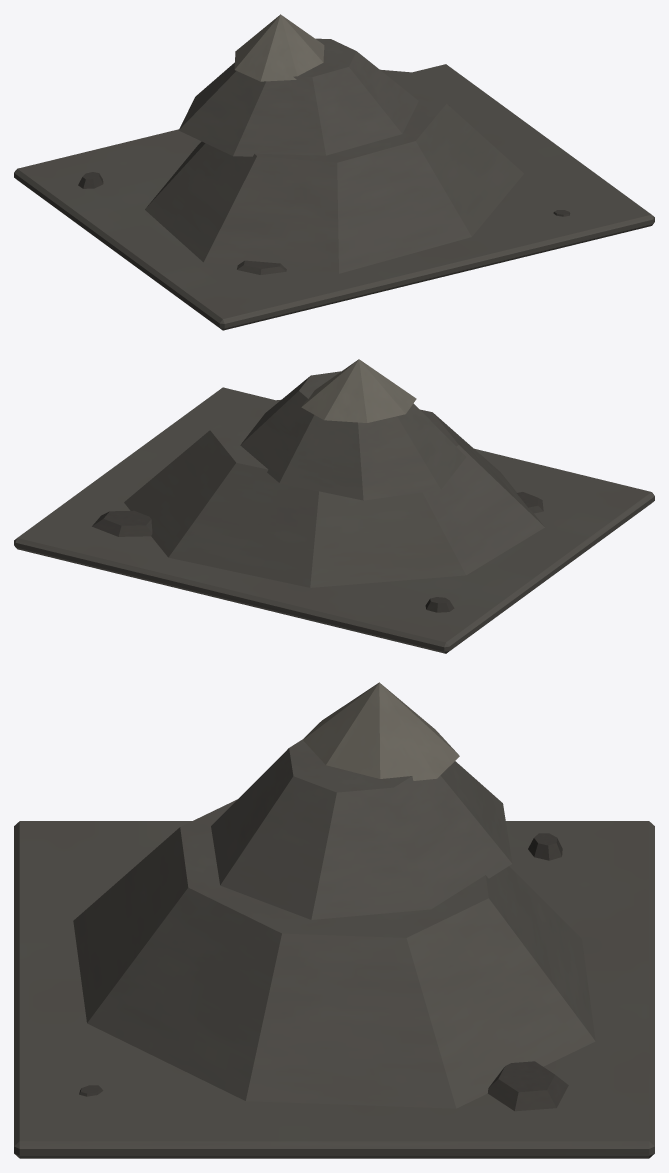
The model's file is terrain_mountain.glb.
3 views of the same model, one above another, from view 1: azimuth 30°, elevation 25°; view 2: azimuth 150°, elevation 25°; view 3: azimuth 270°, elevation 25° (orthographic). The views are drawn at different scales.
Parts seen in each view (by area): view 1: terrain_mountain_footing, terrain_mountain_mass0, terrain_mountain_mass1, terrain_mountain_mass2, terrain_mountain_outcrop_w; view 2: terrain_mountain_mass0, terrain_mountain_footing, terrain_mountain_mass1, terrain_mountain_mass2, terrain_mountain_outcrop_e; view 3: terrain_mountain_mass0, terrain_mountain_footing, terrain_mountain_mass1, terrain_mountain_mass2, terrain_mountain_outcrop_e, terrain_mountain_boulder_a.
Part boxes in pixels (<box>): terrain_mountain_footing: <box>14,64,654,330</box>; terrain_mountain_mass0: <box>145,69,523,273</box>; terrain_mountain_mass1: <box>178,38,418,156</box>; terrain_mountain_mass2: <box>234,14,324,81</box>; terrain_mountain_outcrop_w: <box>237,260,286,274</box>; terrain_mountain_mass0: <box>124,400,544,587</box>; terrain_mountain_footing: <box>14,387,654,653</box>; terrain_mountain_mass1: <box>240,371,466,500</box>; terrain_mountain_mass2: <box>301,359,416,422</box>; terrain_mountain_outcrop_e: <box>92,510,152,536</box>; terrain_mountain_mass0: <box>73,799,595,1108</box>; terrain_mountain_footing: <box>14,821,654,1158</box>; terrain_mountain_mass1: <box>211,738,512,919</box>; terrain_mountain_mass2: <box>303,682,459,780</box>; terrain_mountain_outcrop_e: <box>487,1061,568,1111</box>; terrain_mountain_boulder_a: <box>528,833,562,860</box>.
Size of the model in its own units: 24 by 9.88 by 20.
3 materials, 3 textured.
